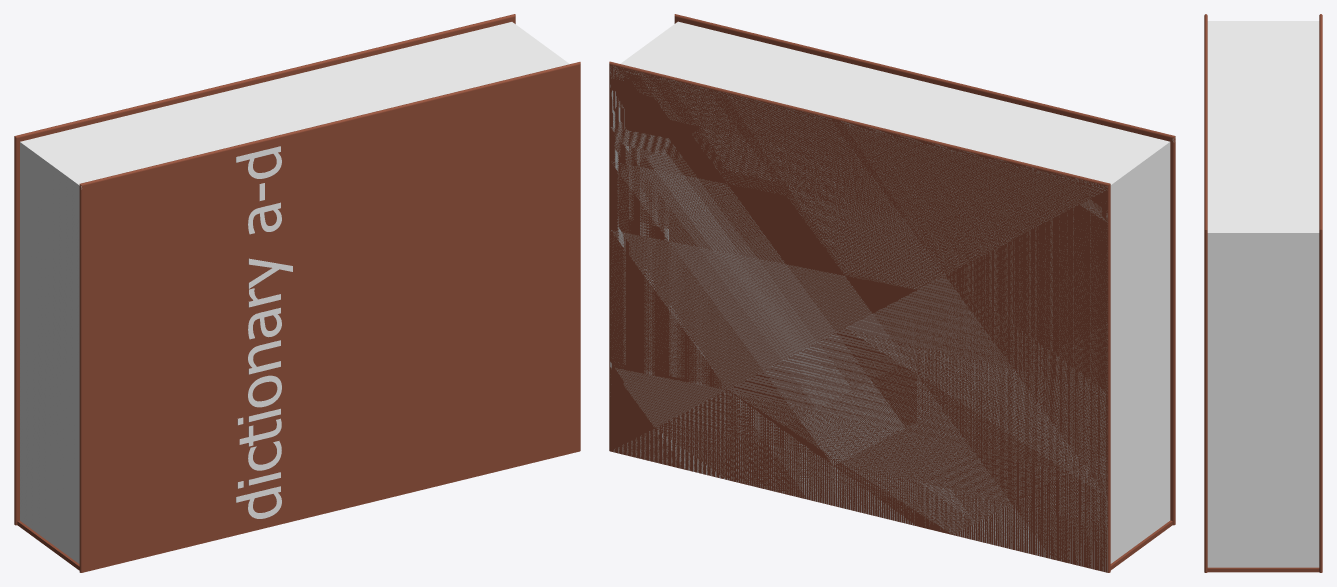
3 renders of one model, left to right at view 1: azimuth 30°, elevation 25°; view 2: azimuth 150°, elevation 25°; view 3: azimuth 270°, elevation 25°, orthographic. The views are drawn at different scales.
Visible parts, largest first — view 1: book; view 2: book; view 3: book.
Part boxes in pixels (<box>): book: <box>14,14,580,572</box>; book: <box>609,14,1175,572</box>; book: <box>1204,14,1322,572</box>.
Bounding box in the file's own units: 143833 × 107421 × 33413.
